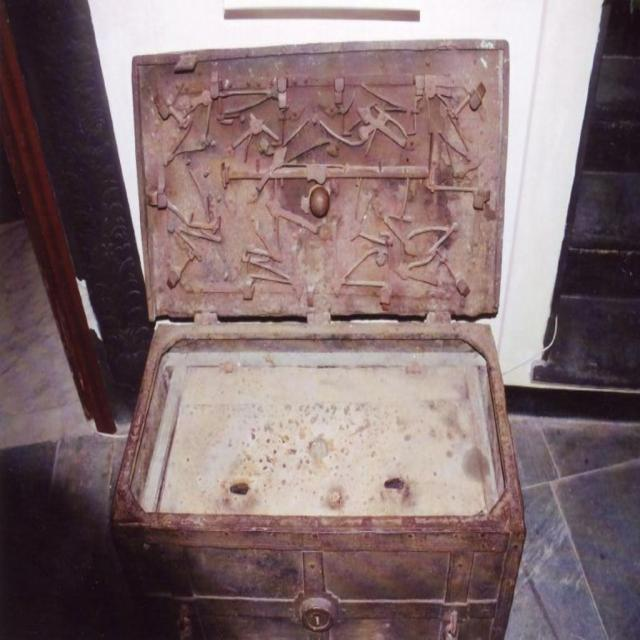Box: (110, 37, 527, 640)
